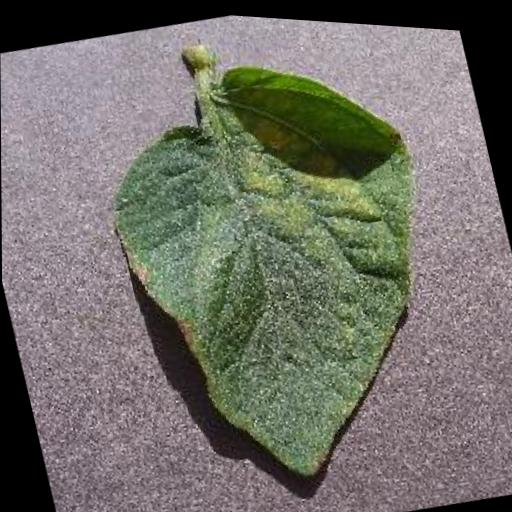Spider Mites: (90, 22, 475, 509)
